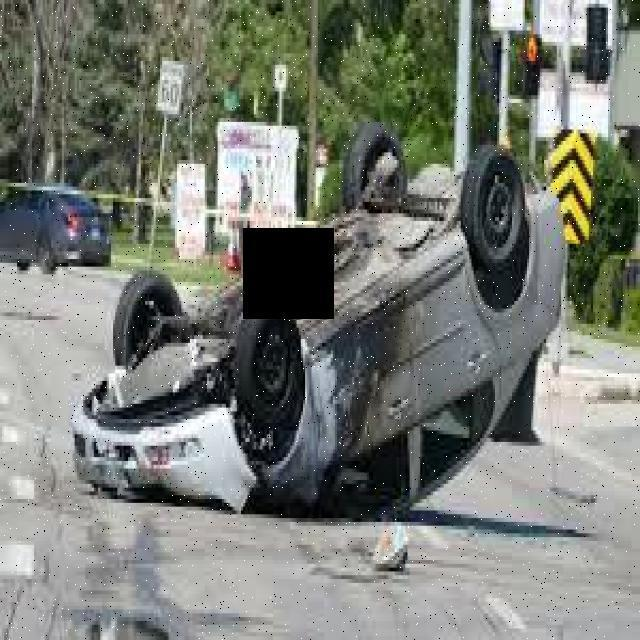accident: (65, 130, 573, 507)
